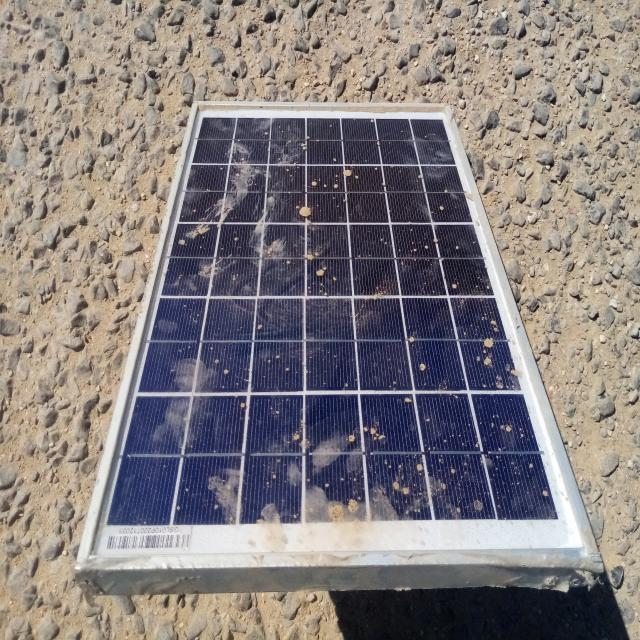faulty: (80, 103, 591, 568)
